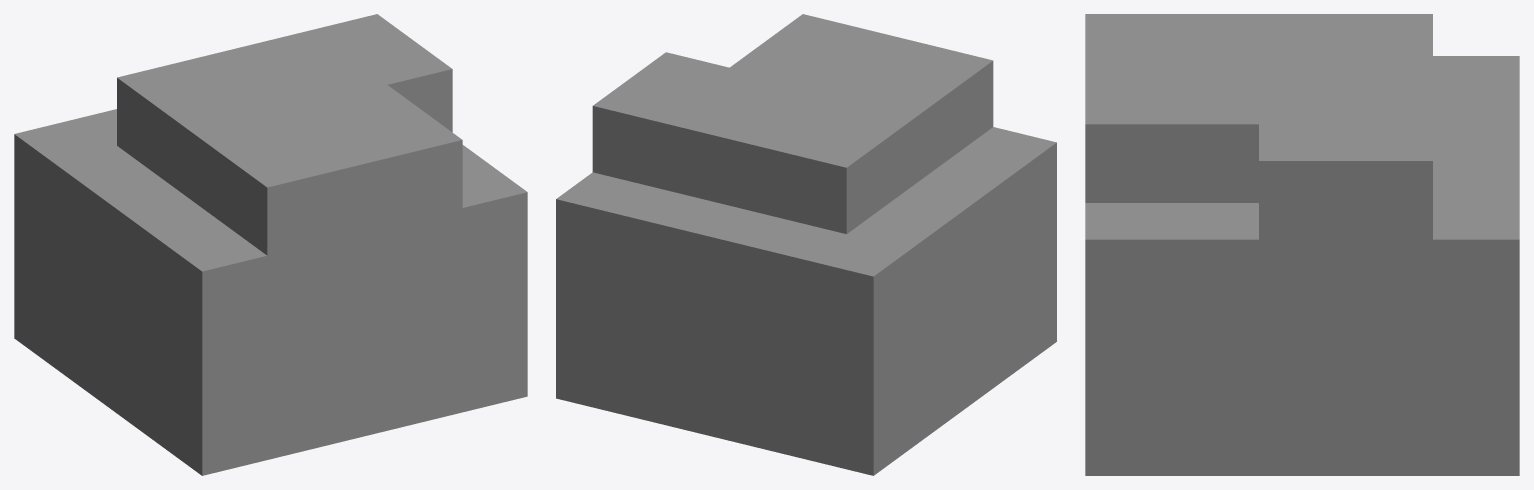
Rendered from Stone.obj.
3 views of the same model, side by side, from view 1: azimuth 30°, elevation 25°; view 2: azimuth 150°, elevation 25°; view 3: azimuth 270°, elevation 25° (orthographic). The views are drawn at different scales.
Parts seen in each view (by area): view 1: Stone; view 2: Stone; view 3: Stone.
Boxes of the visible parts, x1,y1,x2,y2 form: Stone: (14,14,527,475); Stone: (556,14,1056,475); Stone: (1085,14,1519,475).
Bounding box in the file's own units: 5 × 4 × 5.
